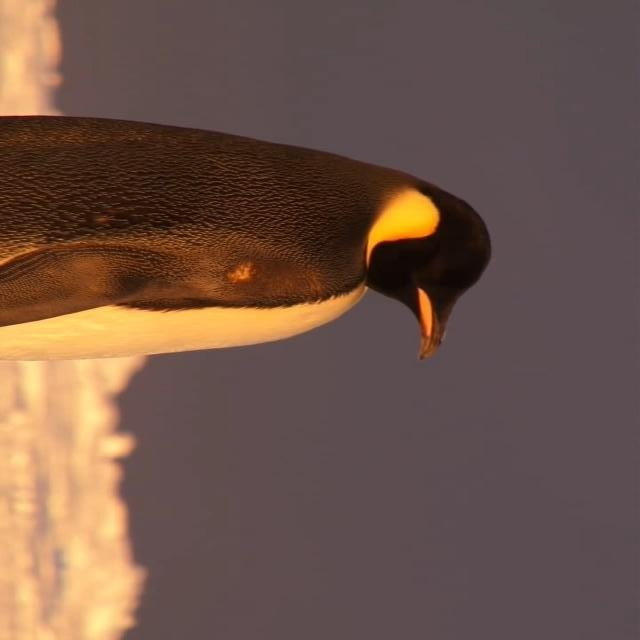penguin: (1, 112, 494, 369)
